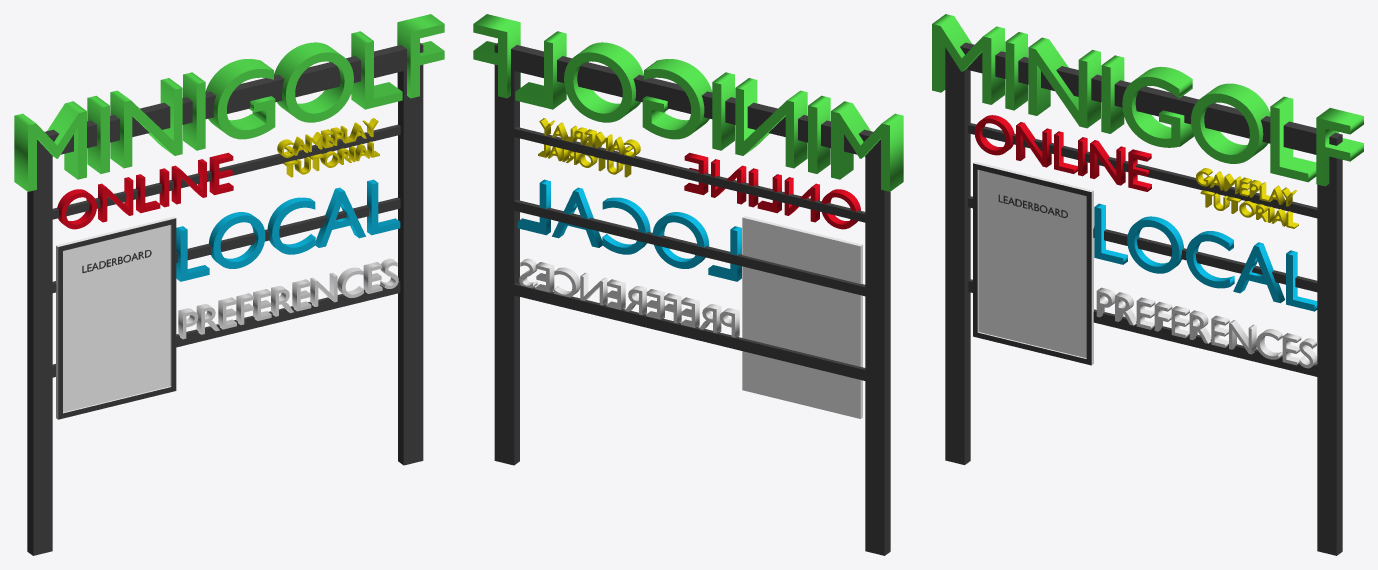
The model's file is main_menu.glb.
3 renders of one model, left to right at view 1: azimuth 30°, elevation 25°; view 2: azimuth 150°, elevation 25°; view 3: azimuth 330°, elevation 25°, orthographic.
Visible parts, largest first — view 1: sign_body, minigolf, leaderboard_board, local, preferences, online, tutorial; view 2: sign_body, minigolf, leaderboard_board, local, preferences, online, tutorial; view 3: sign_body, minigolf, leaderboard_board, local, preferences, online, tutorial.
Boxes of the visible parts, x1,y1,x2,y2 form: sign_body: [27, 43, 423, 555]; minigolf: [14, 14, 444, 191]; leaderboard_board: [56, 216, 176, 419]; local: [176, 179, 400, 281]; preferences: [178, 258, 398, 339]; online: [57, 152, 233, 229]; tutorial: [277, 118, 379, 177]; sign_body: [494, 43, 890, 555]; minigolf: [473, 14, 903, 191]; leaderboard_board: [742, 216, 862, 418]; local: [517, 179, 741, 281]; preferences: [519, 258, 739, 337]; online: [684, 152, 860, 229]; tutorial: [538, 118, 640, 177]; sign_body: [945, 42, 1342, 555]; minigolf: [932, 14, 1363, 186]; leaderboard_board: [973, 161, 1093, 365]; local: [1094, 203, 1317, 311]; preferences: [1096, 287, 1317, 368]; online: [974, 115, 1151, 191]; tutorial: [1196, 168, 1298, 228].
Size of the model in its own units: 41.15 by 41.17 by 2.32.
